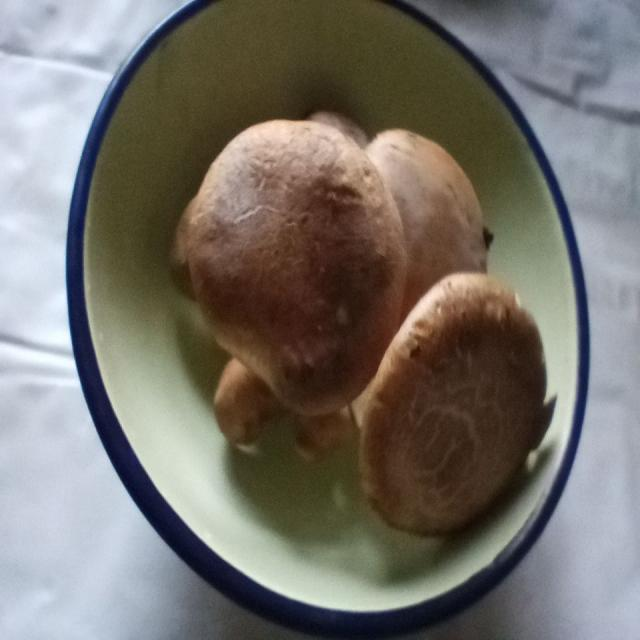Pleurotus cystidiosus: (181, 118, 405, 411), (354, 273, 546, 526), (364, 129, 490, 304)
